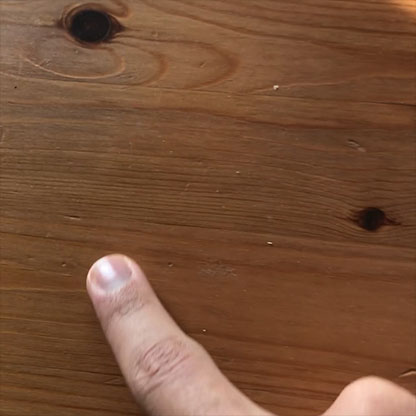fingertip: (74, 242, 166, 315)
